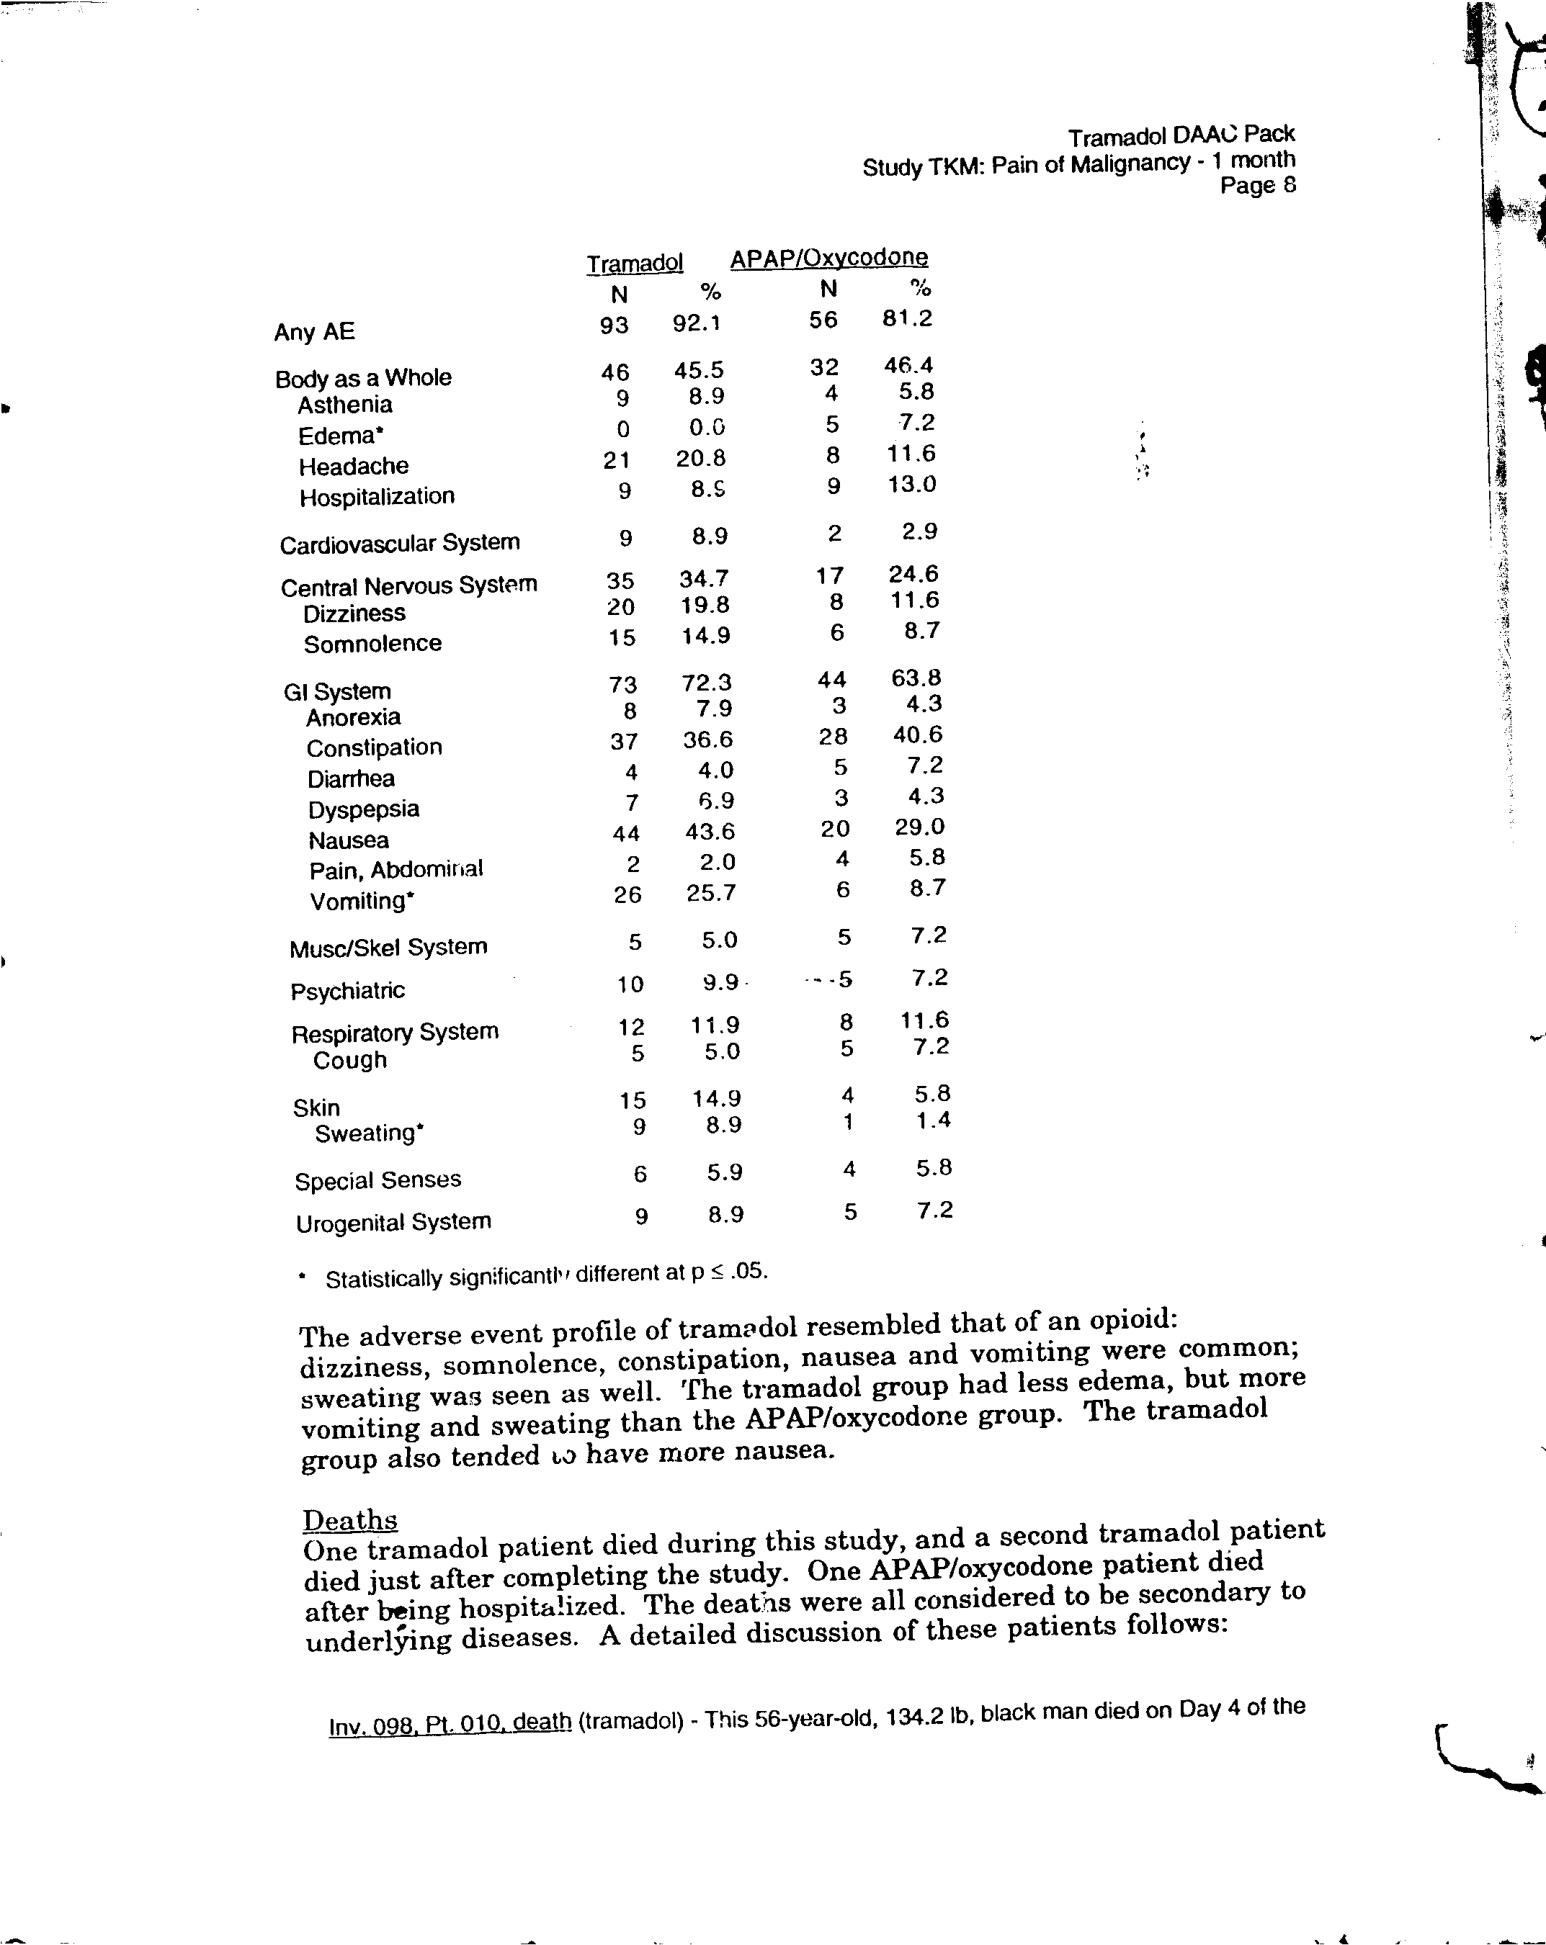nolines: (268, 245, 963, 1238)
